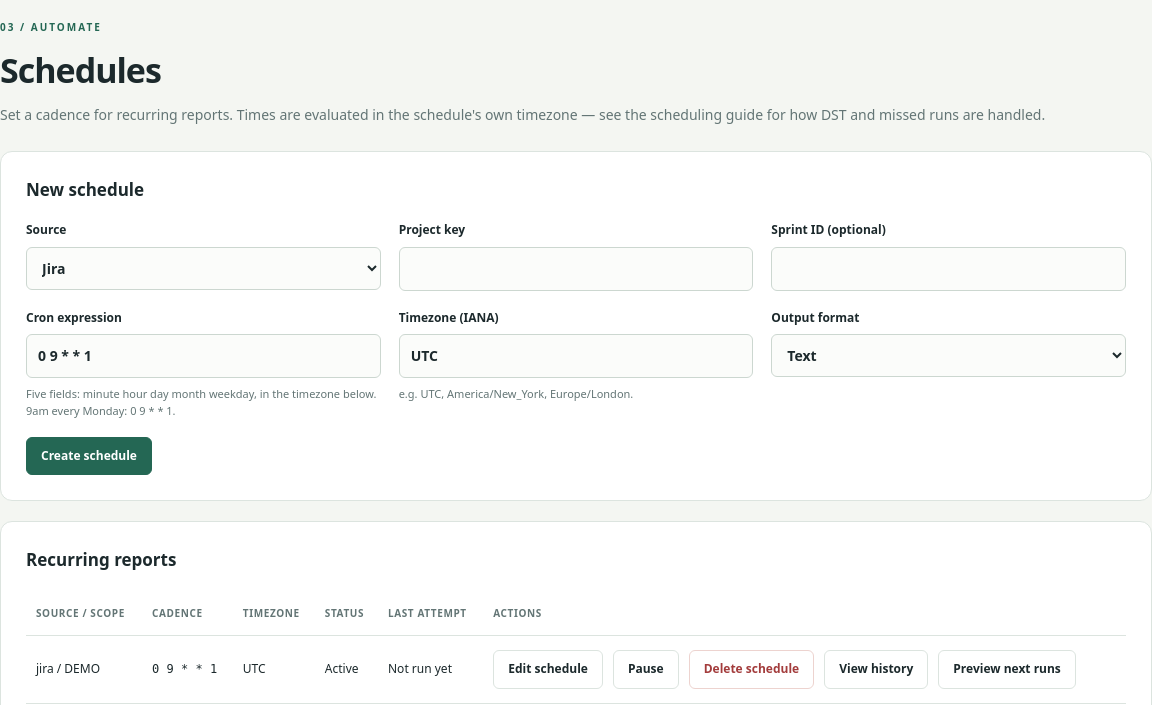
Test: views and hides a schedule's run history, and handles history errors
Step 1. Click the button "View history" → x=876, y=670, box [824,650,928,689]
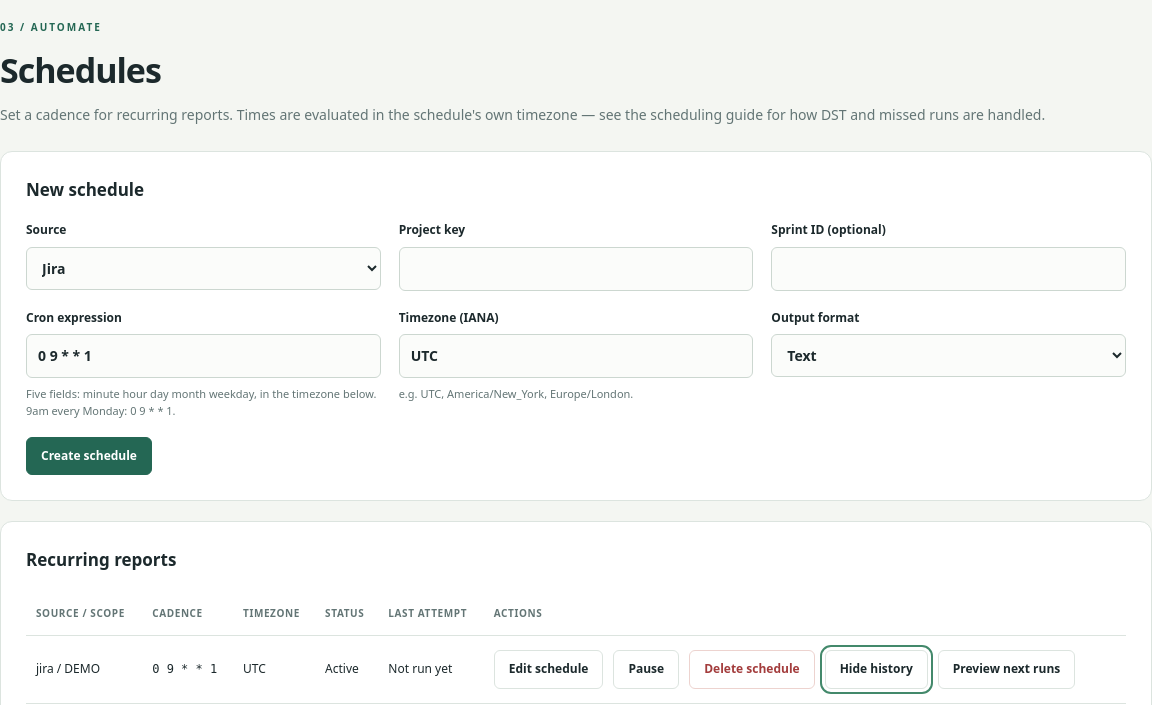
Step 2. Click the button "Hide history" → x=876, y=670, box [825,650,928,689]
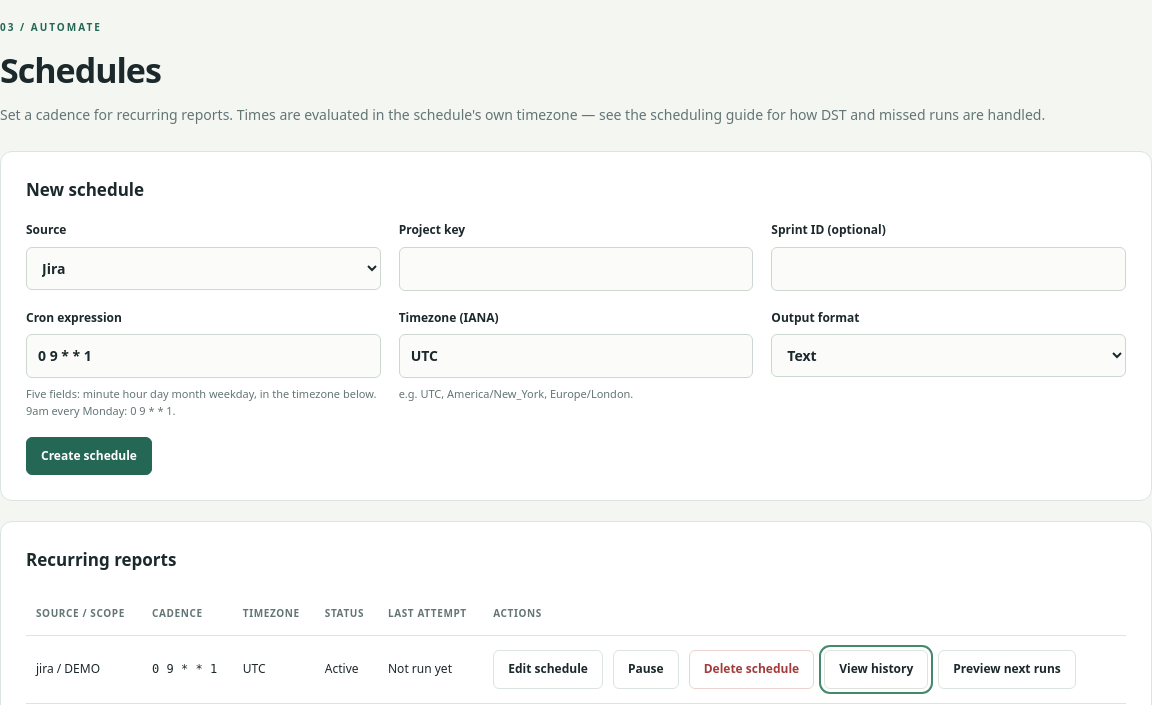
Step 3. Click the button "View history" → x=876, y=670, box [824,650,928,689]
(page scrolled)
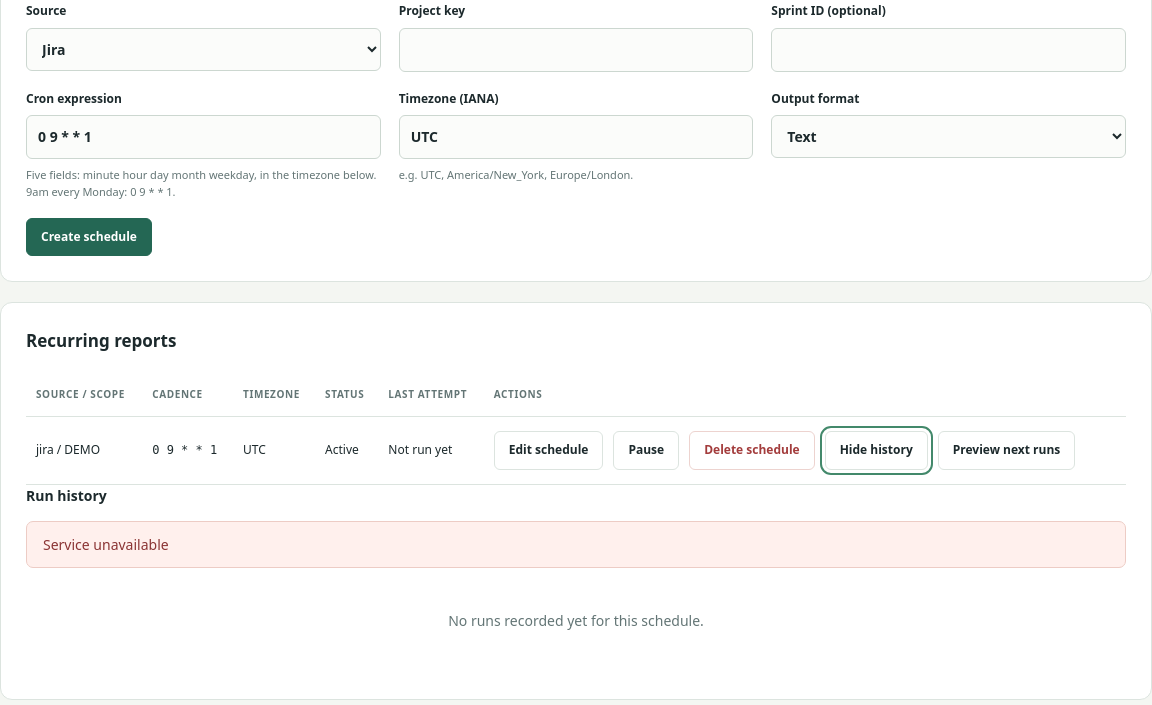
Result: the message reads "Service unavailable" at [43,535,169,554]
